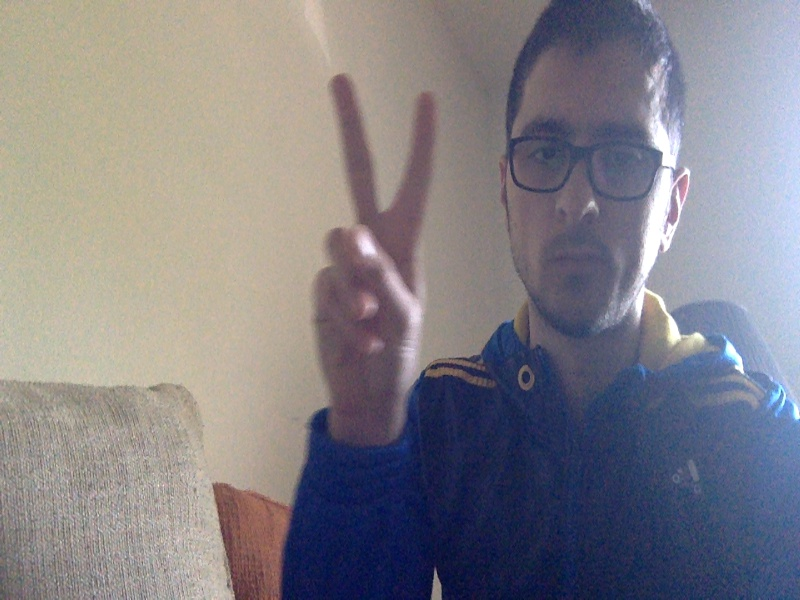2-hand: (309, 75, 436, 403)
